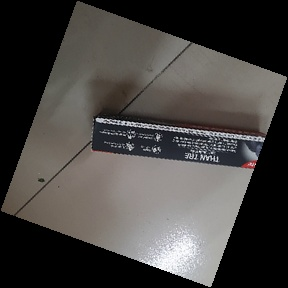Colgate Than: (90, 110, 277, 169)
